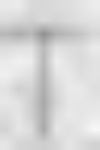T: (0, 0, 99, 149)
